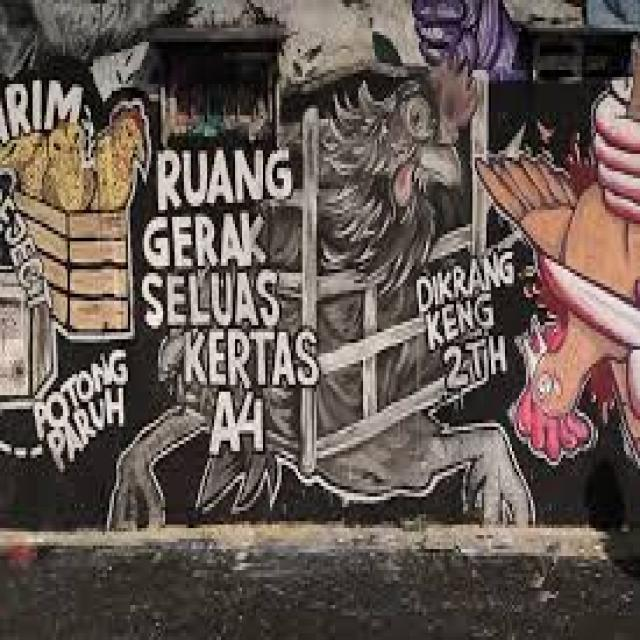-: (112, 58, 535, 530), (477, 38, 640, 468), (0, 77, 151, 469), (143, 146, 320, 456), (416, 245, 516, 384), (412, 0, 520, 78)
